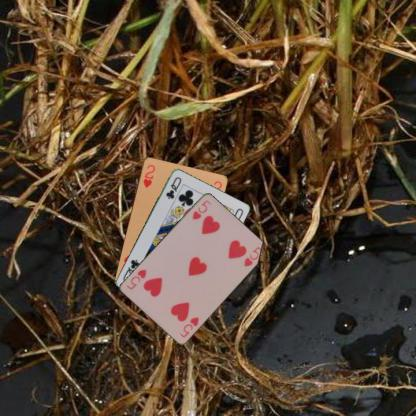2h: (140, 162, 156, 189)
5h: (177, 313, 200, 339), (190, 197, 212, 221)
Qc: (163, 174, 183, 200)
